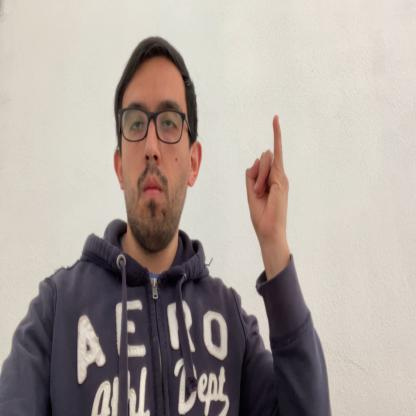I: (246, 113, 290, 247)
